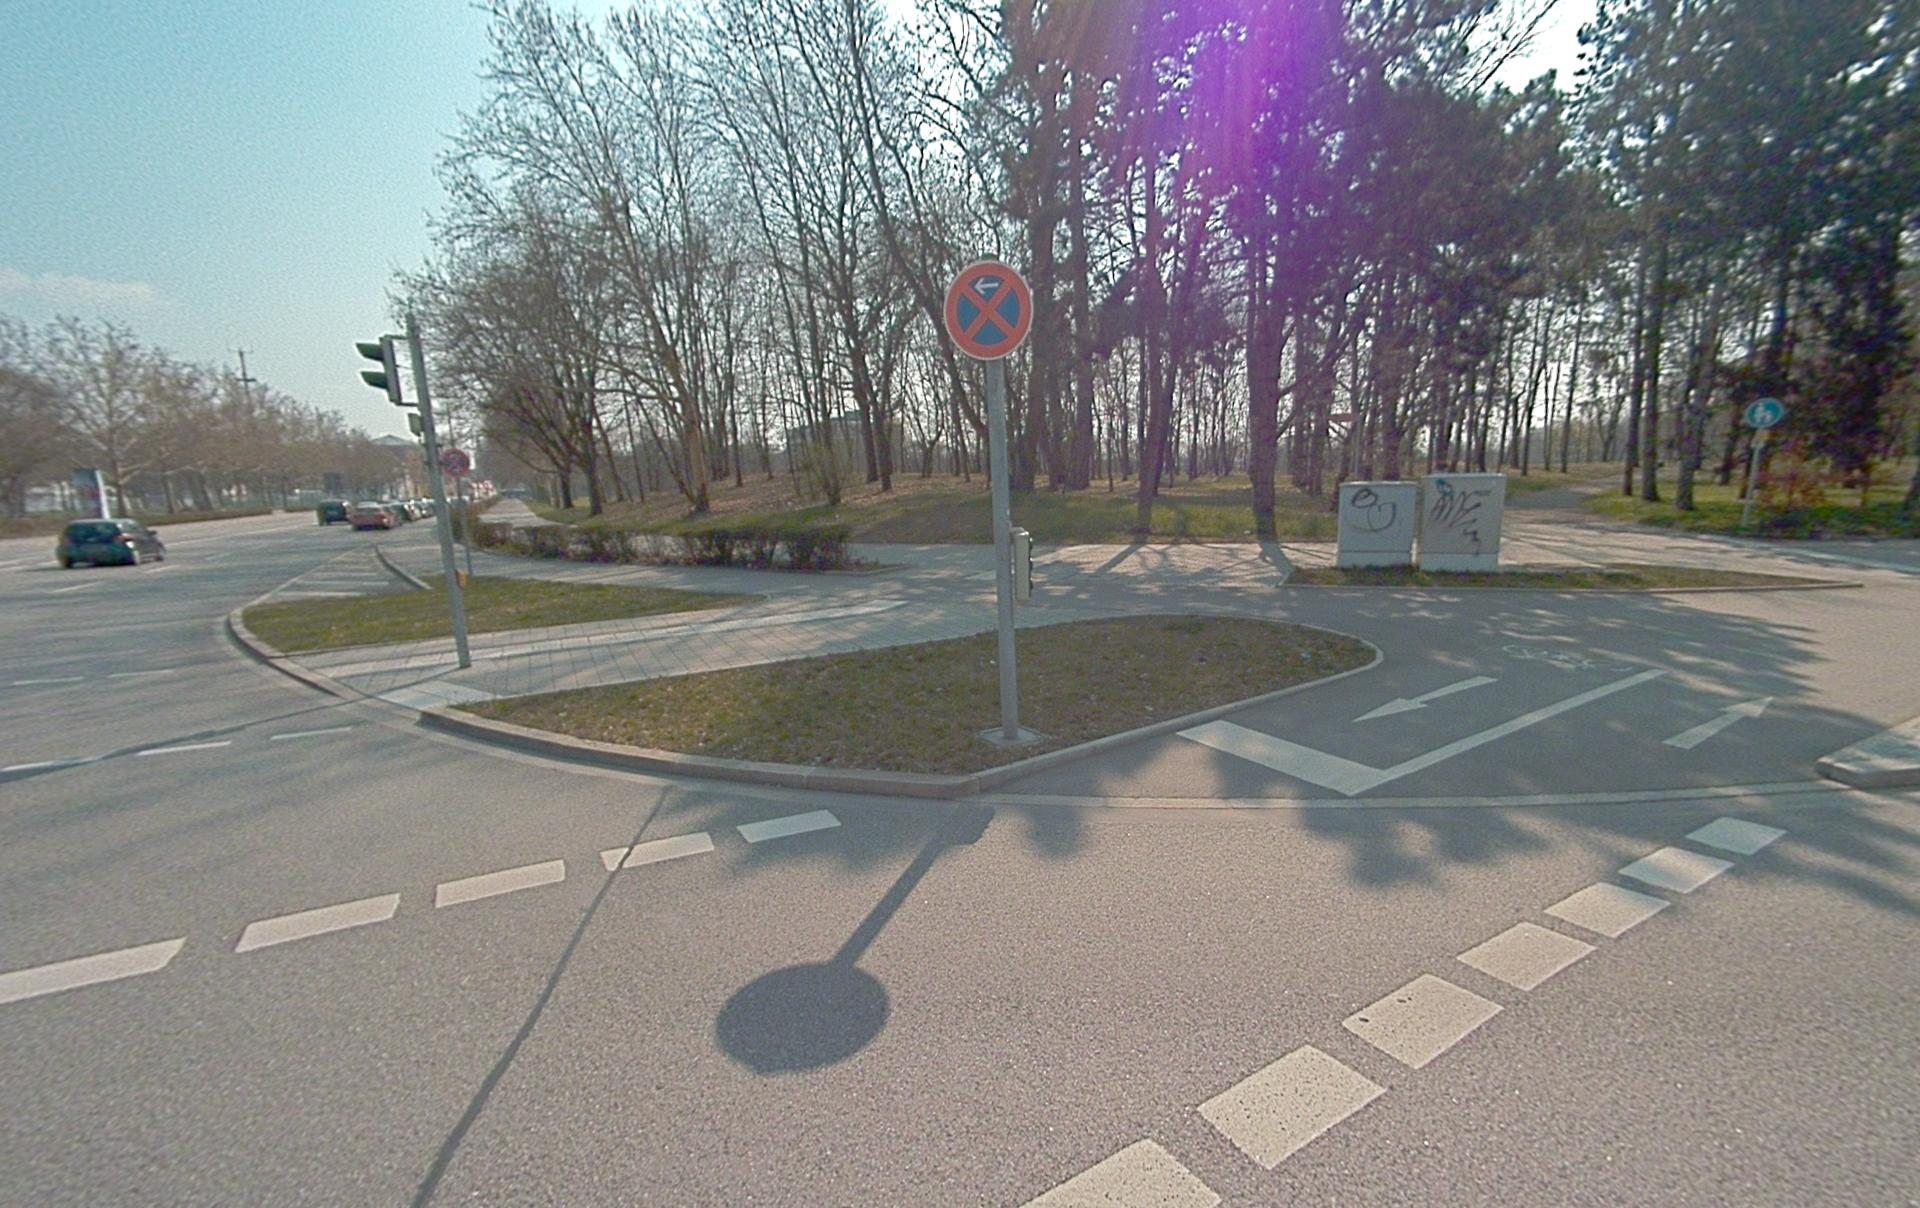car: (56, 518, 166, 569), (348, 501, 394, 530), (317, 500, 346, 526)
traffic sign: (943, 260, 1034, 362)
